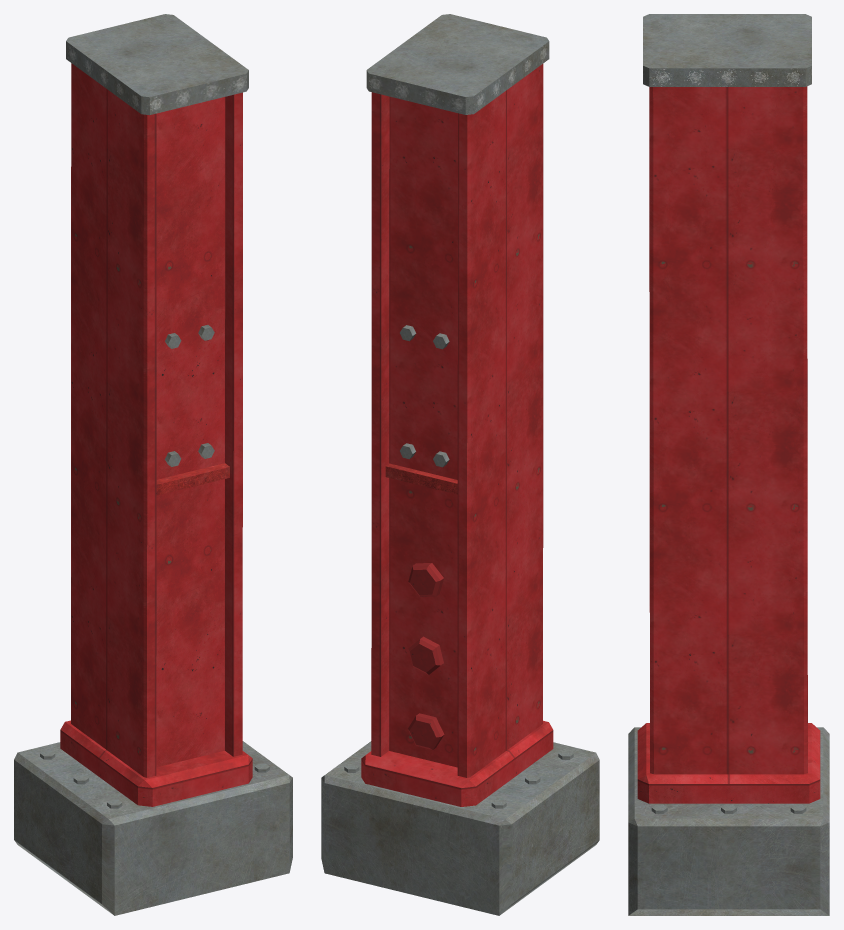
Rendered from Ob_ScafVertShort_RC.fbx.
3 views of the same model, side by side, from view 1: azimuth 30°, elevation 25°; view 2: azimuth 150°, elevation 25°; view 3: azimuth 270°, elevation 25° (orthographic). The views are drawn at different scales.
Parts seen in each view (by area): view 1: Ob_ScafVertShort_RC; view 2: Ob_ScafVertShort_RC; view 3: Ob_ScafVertShort_RC.
Part boxes in pixels (bbox=[...]): Ob_ScafVertShort_RC: bbox=[14, 14, 292, 915]; Ob_ScafVertShort_RC: bbox=[321, 14, 599, 915]; Ob_ScafVertShort_RC: bbox=[628, 14, 829, 915].
Size of the model in its own units: 289 by 1163 by 255.
